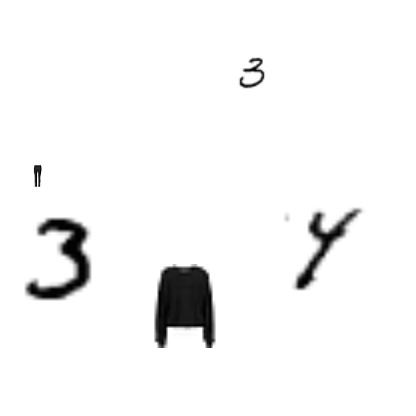6: (29, 291, 141, 403)
7: (282, 156, 296, 170)
Bag: (327, 51, 341, 65)
Coat: (171, 88, 255, 172)
Pullover: (232, 329, 316, 413)
T-shirt/top: (28, 113, 84, 169)
Trouser: (360, 125, 388, 153)
